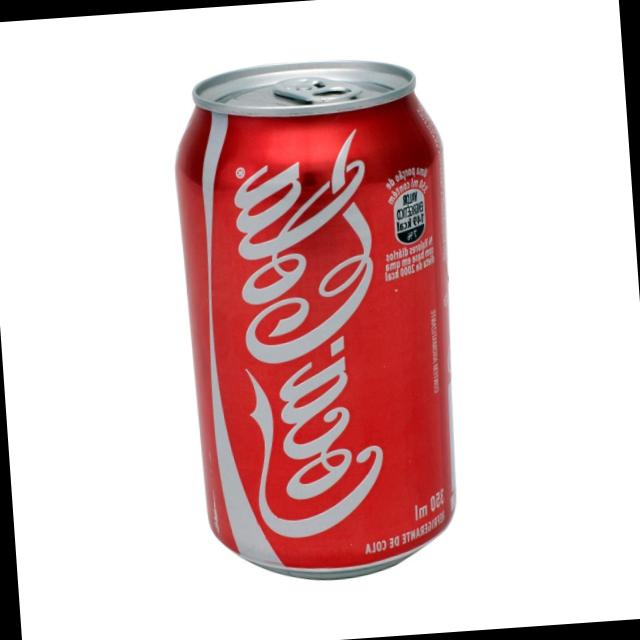cocacola: (173, 56, 472, 588)
